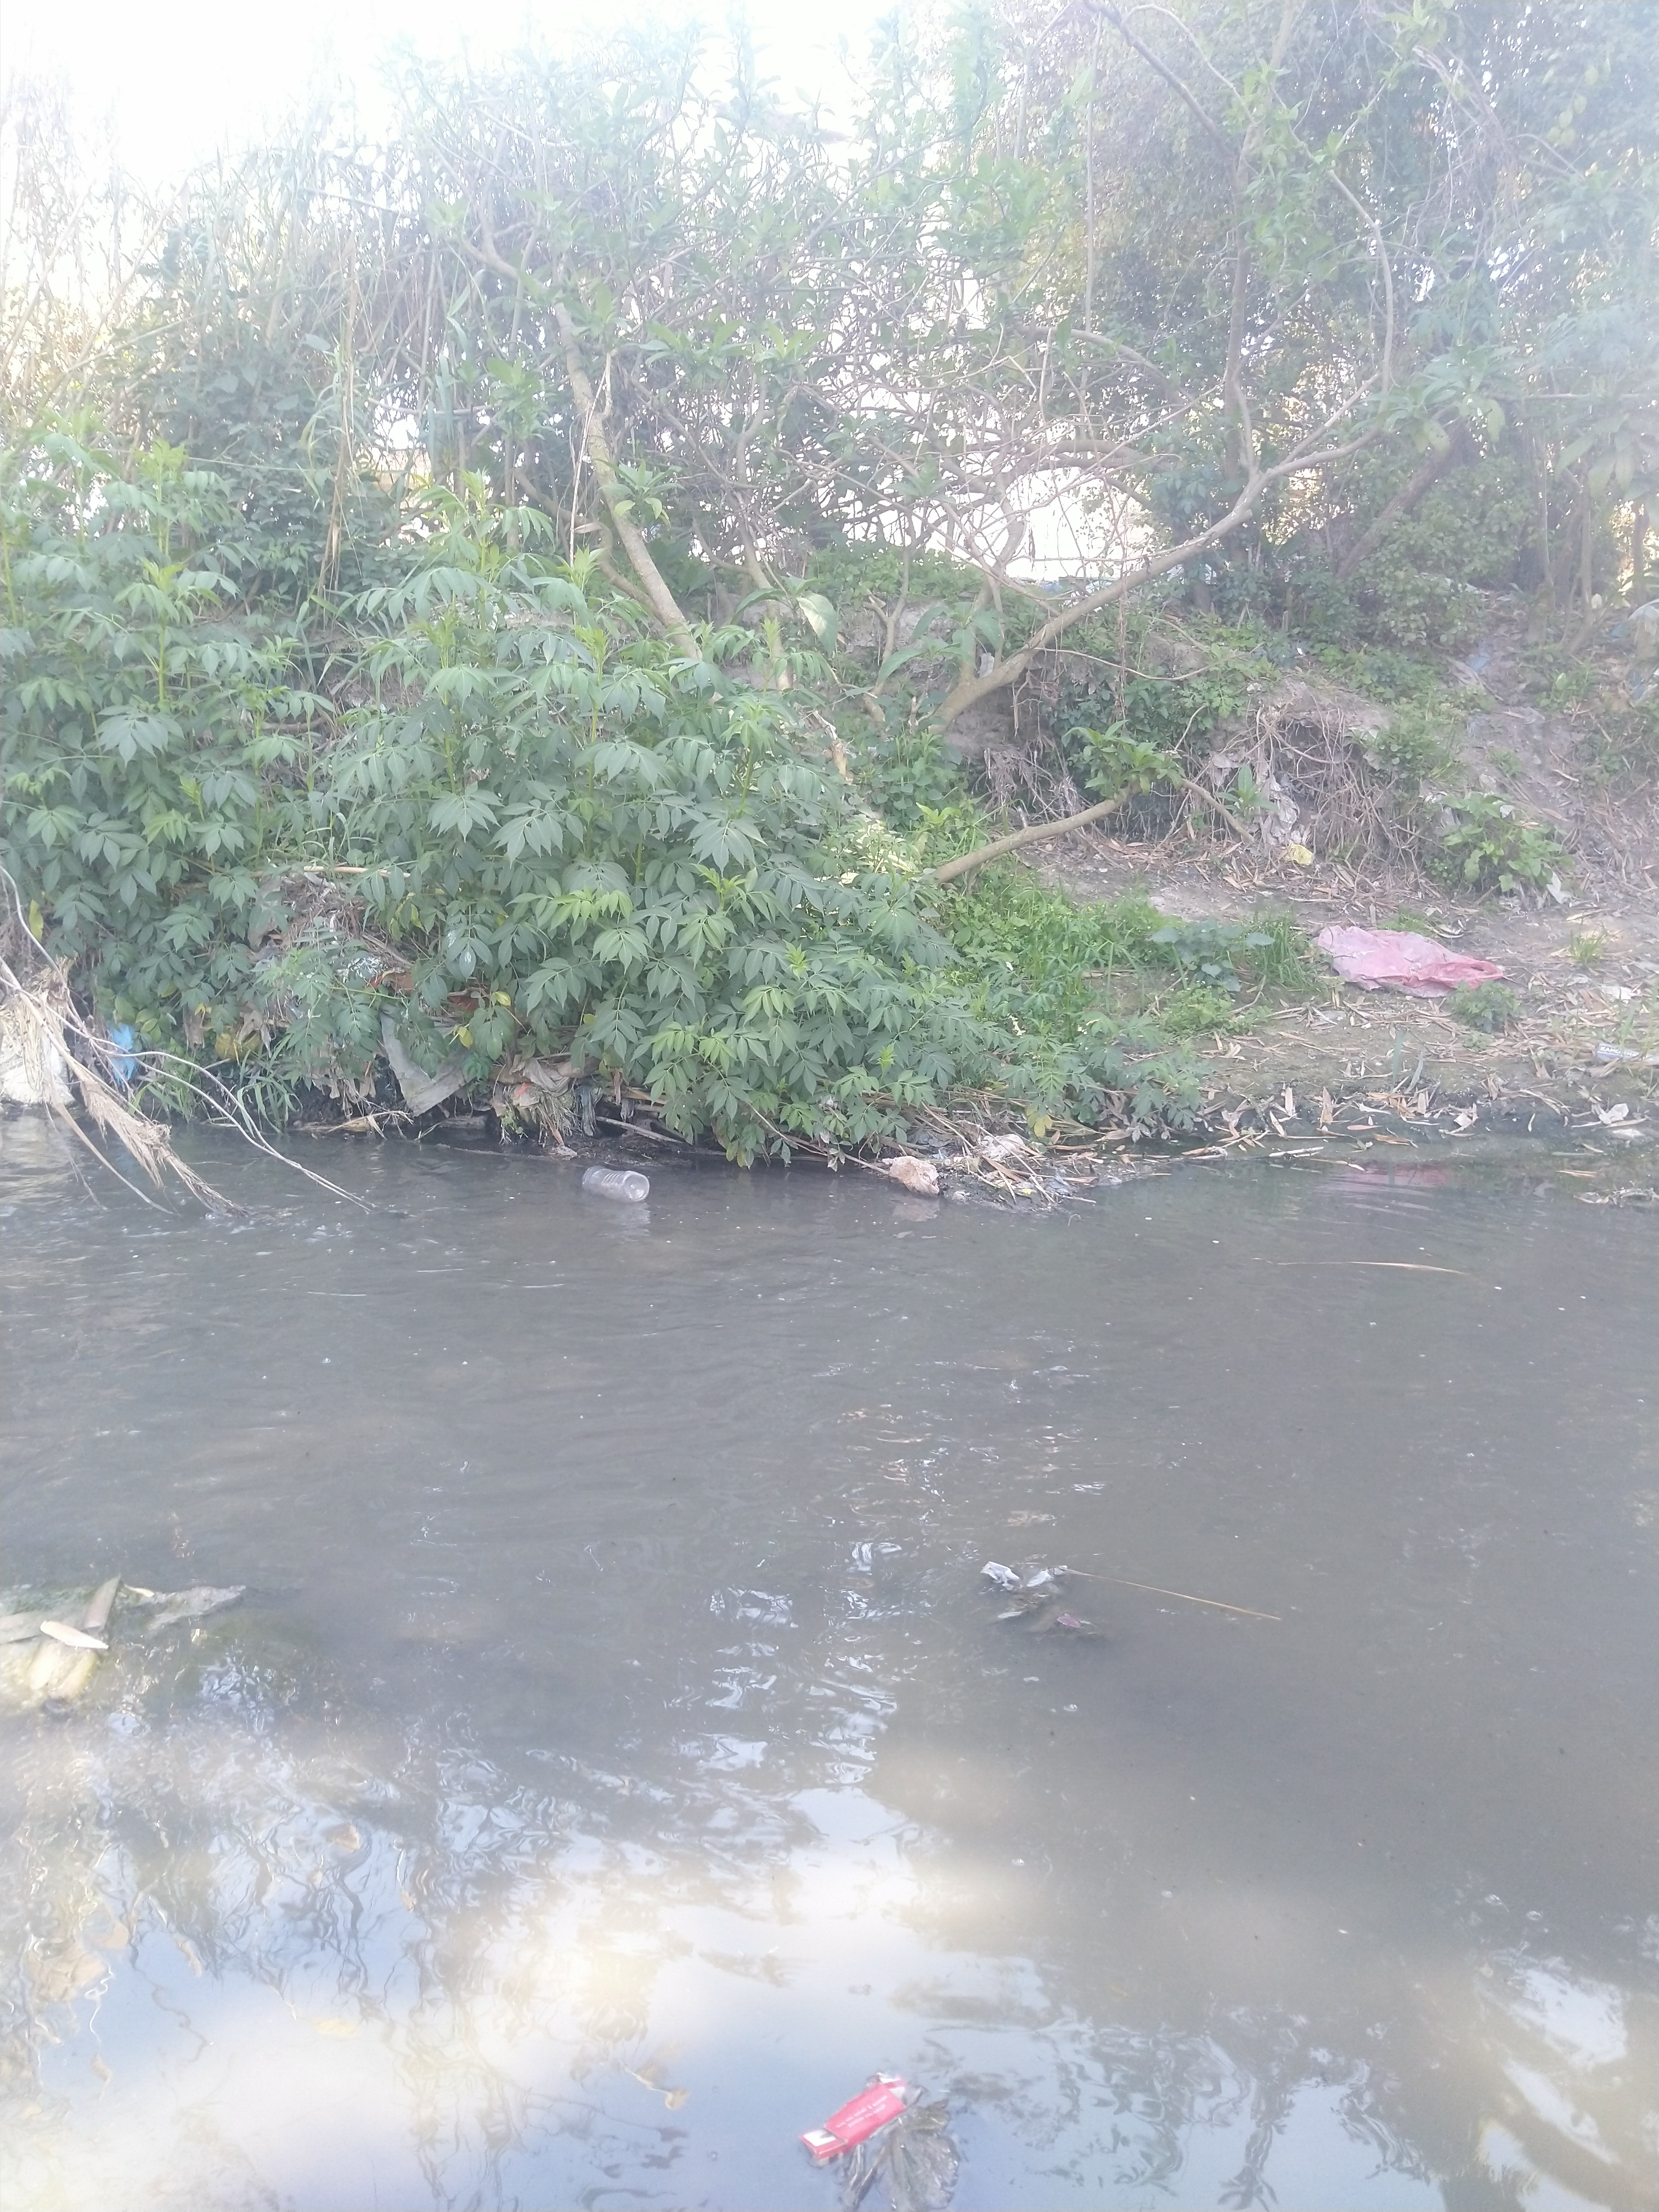Plastic Bottle: (582, 1165, 650, 1202)
